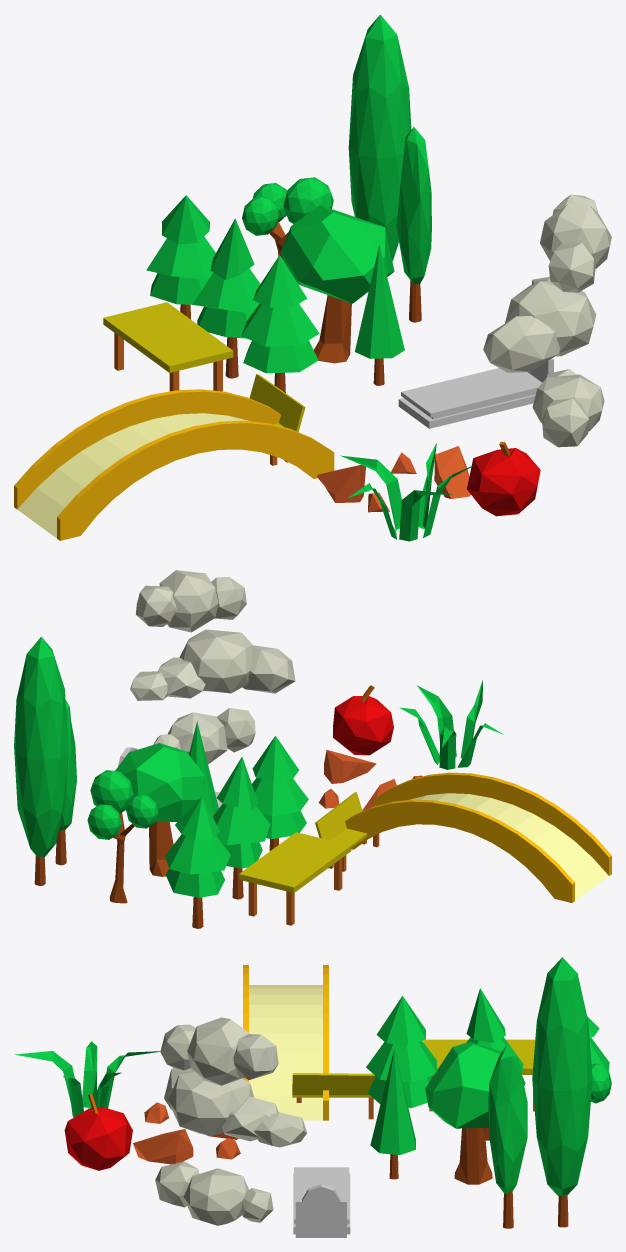
File: environment.fbx
3 views of the same model, one above another, from view 1: azimuth 30°, elevation 25°; view 2: azimuth 150°, elevation 25°; view 3: azimuth 270°, elevation 25° (orthographic). The views are drawn at different scales.
Parts seen in each view (by area): view 1: Bridge, Tree_4b, Tree_1, Cloud_1, Tree_3a, Table, Grave, Tree_3c, Tree_3b, Cloud_3, Tree_4a, Cloud_2 (+7 smaller); view 2: Bridge, Tree_4b, Cloud_1, Tree_1, Cloud_3, Tree_3b, Table, Tree_3c, Tree_balloon, Tree_3a, Cloud_2, Apple (+5 smaller); view 3: Tree_4b, Bridge, Cloud_1, Tree_1, Cloud_3, Cloud_2, Tree_4a, Tree_3a, Grave, Apple, Tree_2, Grass (+8 smaller).
Part boxes in pixels (left/top/right/bottom): Bridge: left=14, top=389, right=334, bottom=540; Tree_4b: left=348, top=14, right=411, bottom=260; Tree_1: left=281, top=205, right=394, bottom=363; Cloud_1: left=483, top=276, right=596, bottom=372; Tree_3a: left=241, top=255, right=319, bottom=392; Table: left=103, top=302, right=233, bottom=391; Grave: left=398, top=358, right=553, bottom=428; Tree_3c: left=192, top=218, right=260, bottom=378; Tree_3b: left=146, top=195, right=215, bottom=319; Cloud_3: left=540, top=194, right=611, bottom=292; Tree_4a: left=396, top=127, right=431, bottom=322; Cloud_2: left=532, top=369, right=604, bottom=447; Bridge: left=345, top=772, right=611, bottom=902; Tree_4b: left=14, top=636, right=68, bottom=885; Cloud_1: left=130, top=629, right=295, bottom=700; Tree_1: left=115, top=743, right=205, bottom=876; Cloud_3: left=135, top=570, right=246, bottom=632; Tree_3b: left=165, top=797, right=230, bottom=928; Table: left=239, top=832, right=351, bottom=925; Tree_3c: left=213, top=756, right=270, bottom=899; Tree_balloon: left=87, top=770, right=158, bottom=903; Tree_3a: left=252, top=736, right=308, bottom=850; Cloud_2: left=153, top=708, right=255, bottom=764; Apple: left=333, top=685, right=393, bottom=755; Tree_4b: left=532, top=957, right=592, bottom=1227; Bridge: left=243, top=965, right=328, bottom=1120; Cloud_1: left=164, top=1068, right=306, bottom=1147; Tree_1: left=425, top=1042, right=525, bottom=1184; Cloud_3: left=160, top=1017, right=278, bottom=1085; Cloud_2: left=155, top=1161, right=273, bottom=1225; Tree_4a: left=488, top=1044, right=527, bottom=1228; Tree_3a: left=366, top=996, right=436, bottom=1107; Grave: left=293, top=1167, right=350, bottom=1237; Apple: left=64, top=1093, right=132, bottom=1170; Tree_2: left=370, top=1048, right=415, bottom=1179; Grass: left=15, top=1041, right=159, bottom=1117.
Bounding box in the file's own units: 17.07 × 8.76 × 17.38.
